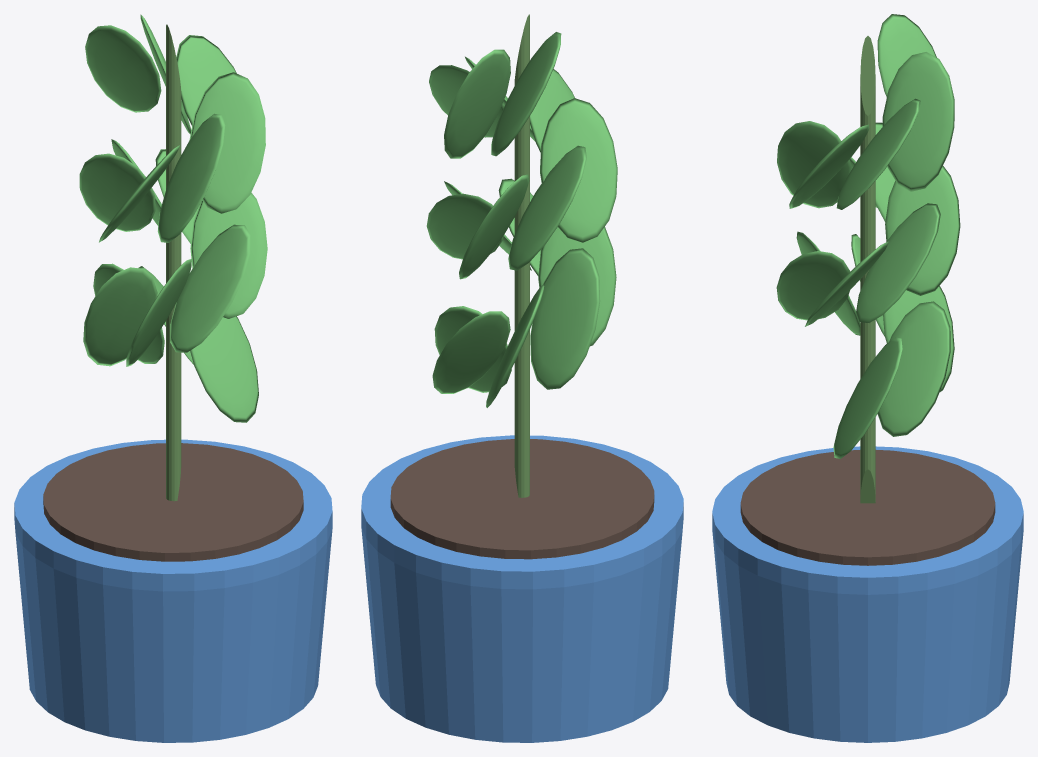
3 renders of one model, left to right at view 1: azimuth 30°, elevation 25°; view 2: azimuth 150°, elevation 25°; view 3: azimuth 270°, elevation 25°, orthographic. The views are drawn at different scales.
Parts seen in each view (by area): view 1: Pot_Complete, Leaves, Soil, Stem; view 2: Pot_Complete, Leaves, Soil, Stem; view 3: Pot_Complete, Leaves, Soil, Stem.
Part boxes in pixels (<box>): Pot_Complete: <box>14,439,332,742</box>; Leaves: <box>79,14,267,422</box>; Soil: <box>43,443,303,561</box>; Stem: <box>166,24,181,501</box>; Pot_Complete: <box>361,435,683,742</box>; Leaves: <box>426,32,617,407</box>; Soil: <box>390,439,654,559</box>; Stem: <box>514,14,529,497</box>; Pot_Complete: <box>712,446,1023,742</box>; Leaves: <box>776,14,960,458</box>; Soil: <box>740,450,995,565</box>; Stem: <box>860,36,875,503</box>.
Bounding box in the file's own units: 0.33 × 0.7538 × 0.33.
